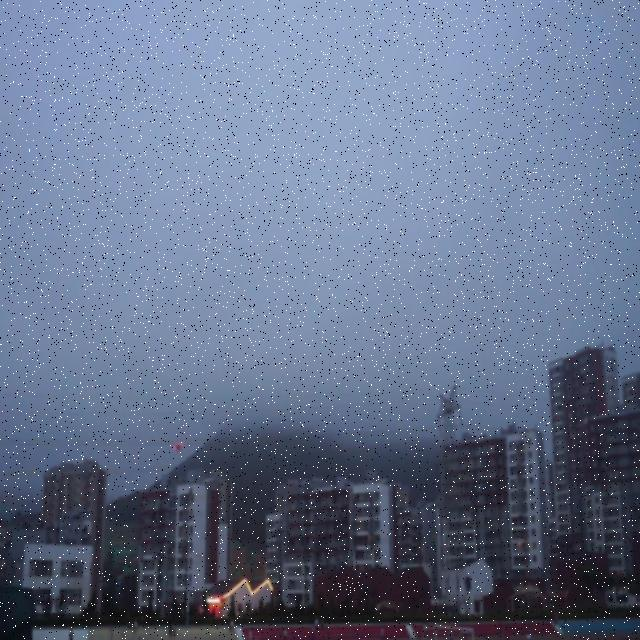UAV: (173, 442, 184, 452)
